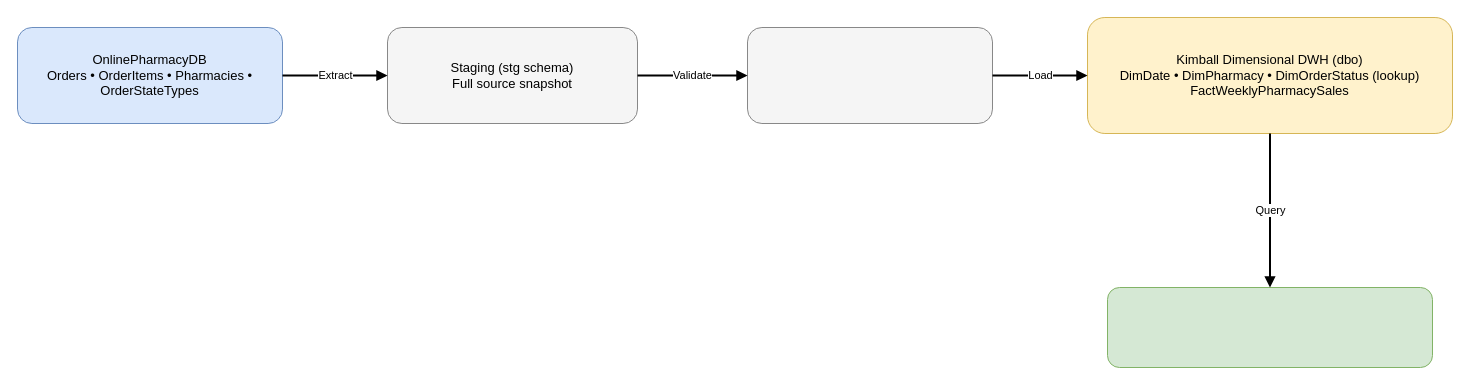
Image size: 1470x385. Some labels were removed from this diagram. Here are the shapes that lost their labels. From the top down, the centre of each, then its label:
(x=869, y=75): Validation Keys • Orphans • Amounts
(x=1269, y=327): Semantic View vw_WeeklyPharmacySales
